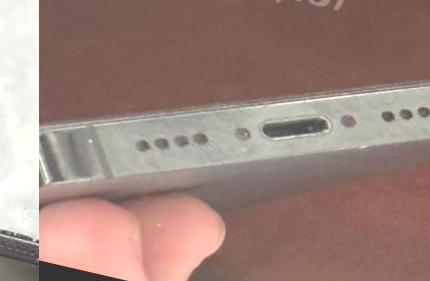scratch: (60, 126, 108, 155), (0, 224, 21, 257)
